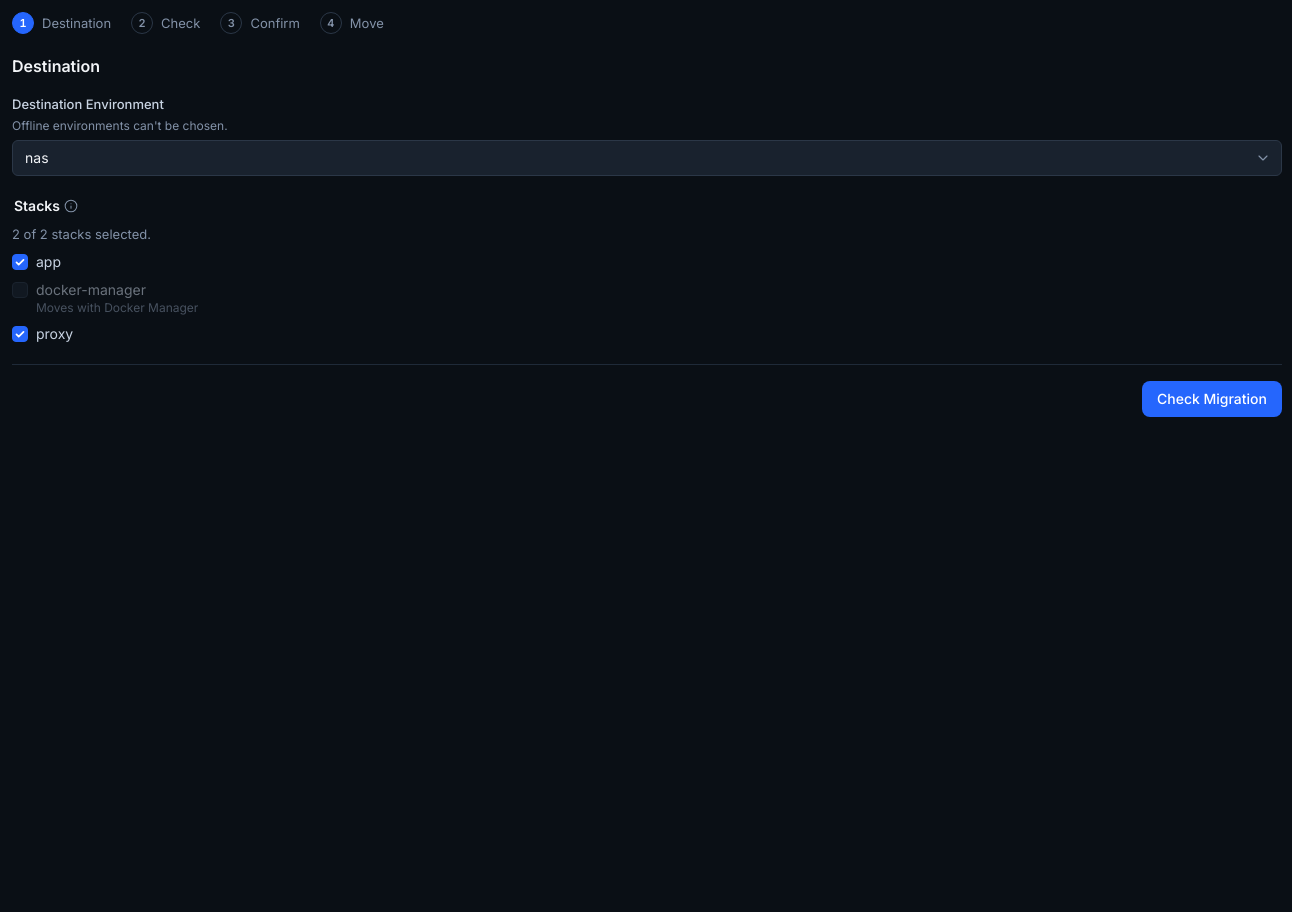
EnvironmentMigrationWizard › chooses the stacks, Docker Manager’s own off, and shows the check’s order
The width and height of the screenshot is (1292, 912).
Expected: the heading "Destination" is shown, [12, 56, 100, 76]
Expected: the checkbox labelled "docker-manager Moves with Docker Manager" is disabled, [12, 282, 28, 298]
Click the button "Check Migration". click: (1212, 399)
box: [1142, 381, 1282, 417]
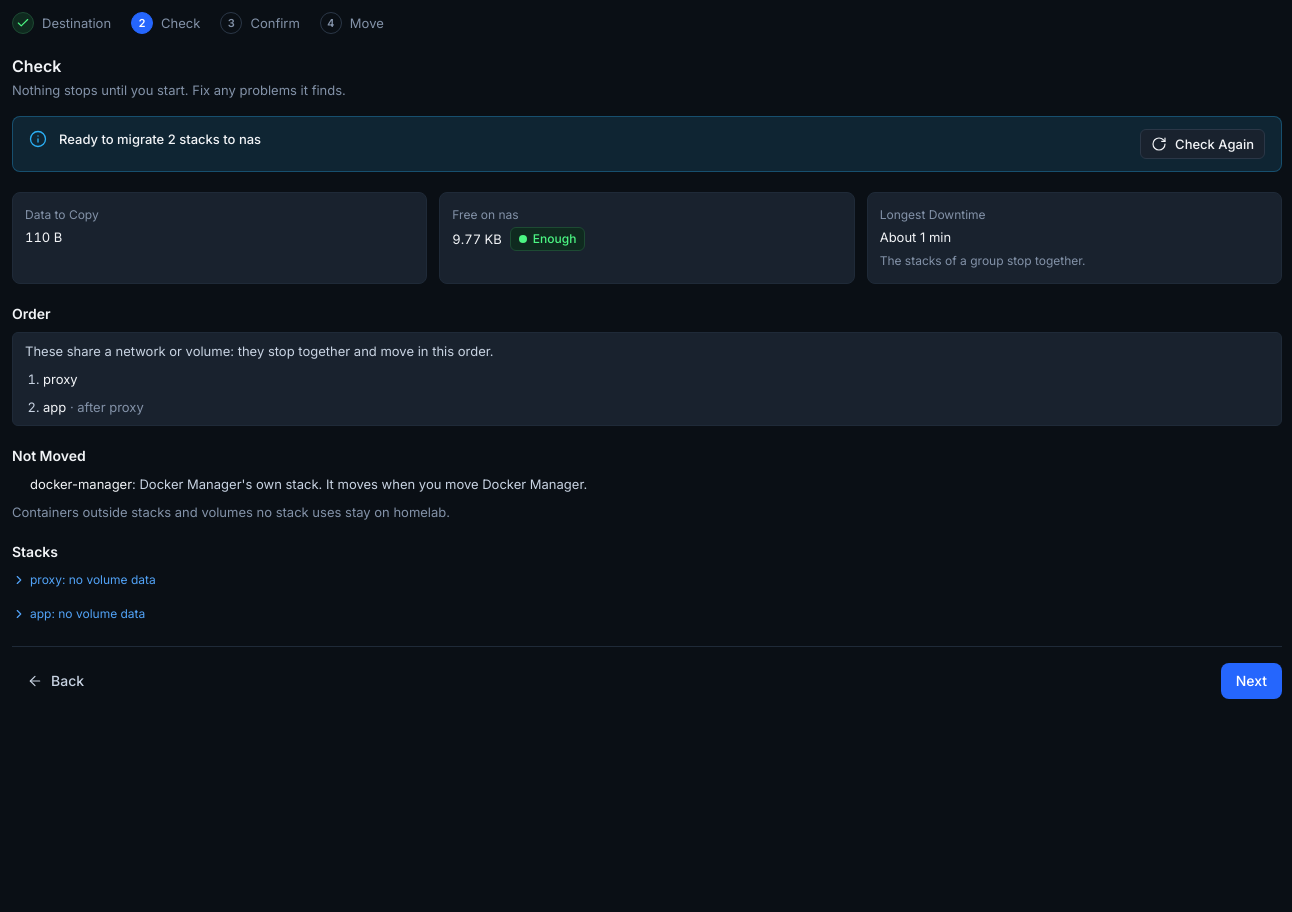
Now the text "Ready to migrate 2 stacks to nas" is shown, box [59, 131, 261, 147]
Now the text "These share a network or volume: they stop together and move in this order." is shown, box [25, 343, 494, 359]
Now the text "· after proxy" is shown, box [70, 399, 144, 415]
